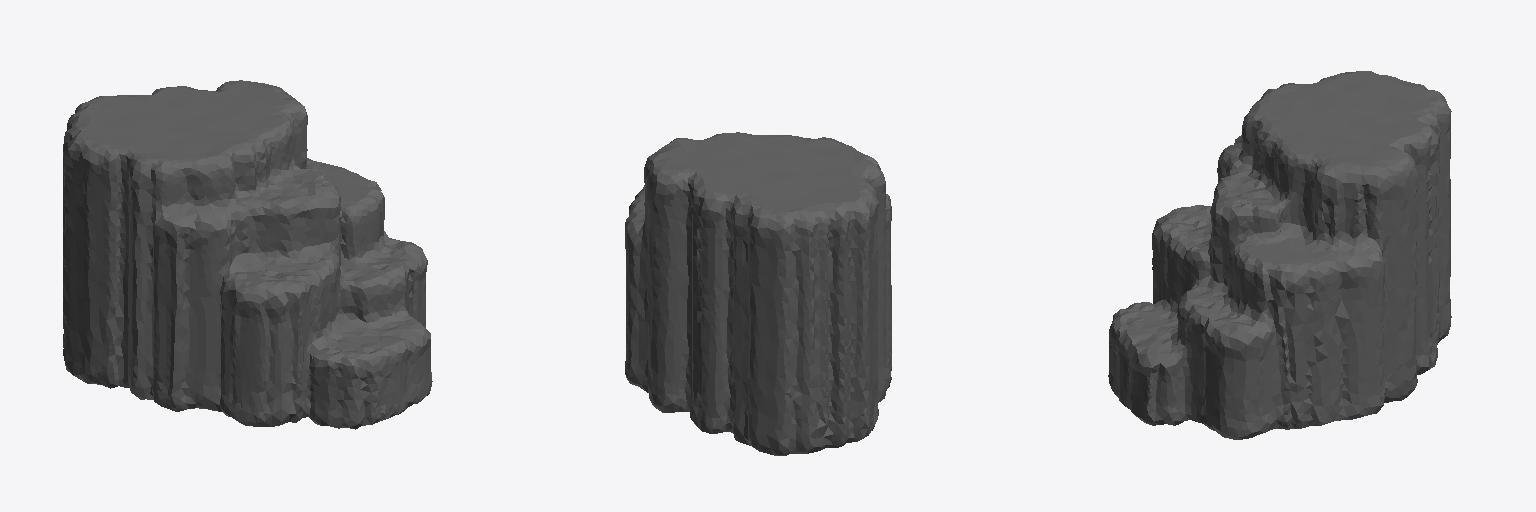
File: Roca.obj
3 renders of one model, left to right at view 1: azimuth 30°, elevation 25°; view 2: azimuth 150°, elevation 25°; view 3: azimuth 270°, elevation 25°, orthographic.
Parts seen in each view (by area): view 1: CavePlatform1_Obj; view 2: CavePlatform1_Obj; view 3: CavePlatform1_Obj.
Part boxes in pixels (x1,y1,x2,y2): CavePlatform1_Obj: (63, 80, 432, 429); CavePlatform1_Obj: (625, 132, 891, 455); CavePlatform1_Obj: (1108, 71, 1451, 439).
Size of the model in its own units: 87.88 by 69.28 by 89.31.